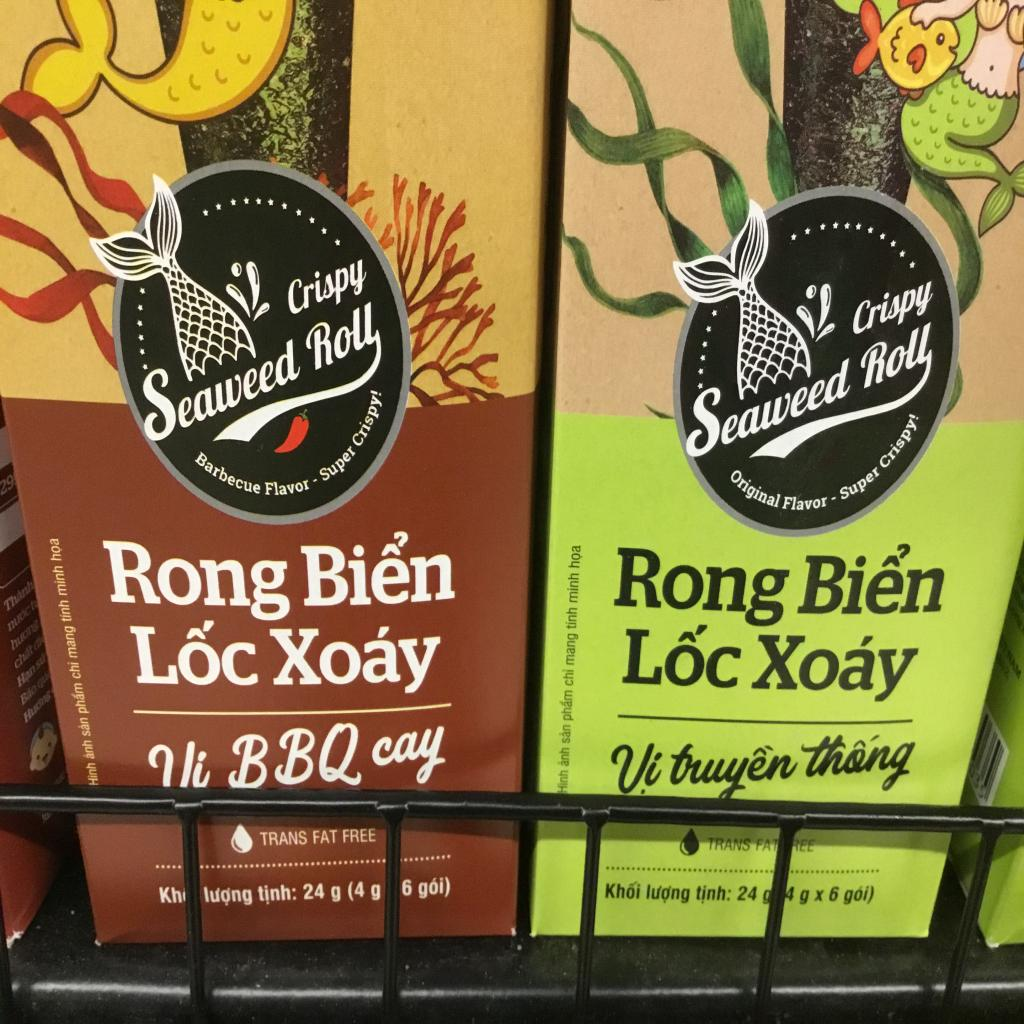text: (137, 312, 305, 448), (682, 355, 854, 464), (103, 539, 293, 626), (610, 546, 790, 630), (269, 623, 451, 697), (298, 529, 458, 609), (748, 633, 928, 703), (796, 540, 948, 615), (225, 719, 367, 790), (618, 615, 744, 690), (124, 621, 258, 689), (662, 737, 799, 799), (800, 731, 922, 792), (303, 298, 382, 378), (854, 319, 934, 395), (286, 253, 367, 324), (370, 723, 455, 786), (849, 277, 937, 335), (193, 452, 263, 503), (608, 738, 669, 795), (877, 411, 928, 475), (723, 467, 785, 513), (352, 386, 388, 452), (838, 461, 881, 506), (318, 442, 358, 486), (205, 886, 254, 914), (402, 875, 452, 901), (783, 885, 840, 907), (22, 685, 53, 725), (10, 615, 39, 654), (302, 880, 341, 908), (3, 579, 35, 613), (263, 476, 312, 498), (258, 883, 297, 910), (259, 829, 308, 850), (646, 882, 692, 904), (346, 878, 382, 906), (190, 748, 214, 788), (783, 492, 829, 512), (708, 834, 754, 854), (694, 883, 732, 905), (736, 884, 772, 905), (968, 760, 986, 802), (7, 602, 32, 632), (69, 682, 91, 715), (605, 880, 643, 899), (843, 884, 875, 906), (339, 828, 378, 846), (157, 882, 183, 907), (14, 640, 34, 671), (17, 662, 38, 690), (50, 565, 68, 597), (564, 632, 580, 668), (558, 690, 575, 722), (1005, 650, 1023, 680), (568, 540, 584, 570), (64, 625, 78, 659), (20, 682, 39, 706), (567, 573, 581, 603), (313, 828, 339, 844), (57, 599, 73, 624), (48, 537, 64, 562), (755, 837, 780, 853), (36, 668, 51, 693), (0, 471, 15, 496), (791, 839, 817, 853), (76, 717, 92, 739), (85, 762, 99, 787), (556, 769, 570, 794), (561, 664, 575, 687), (564, 606, 578, 629), (34, 649, 48, 671), (66, 660, 81, 680), (558, 745, 570, 770), (82, 740, 96, 761), (558, 724, 572, 745), (34, 632, 44, 652)
